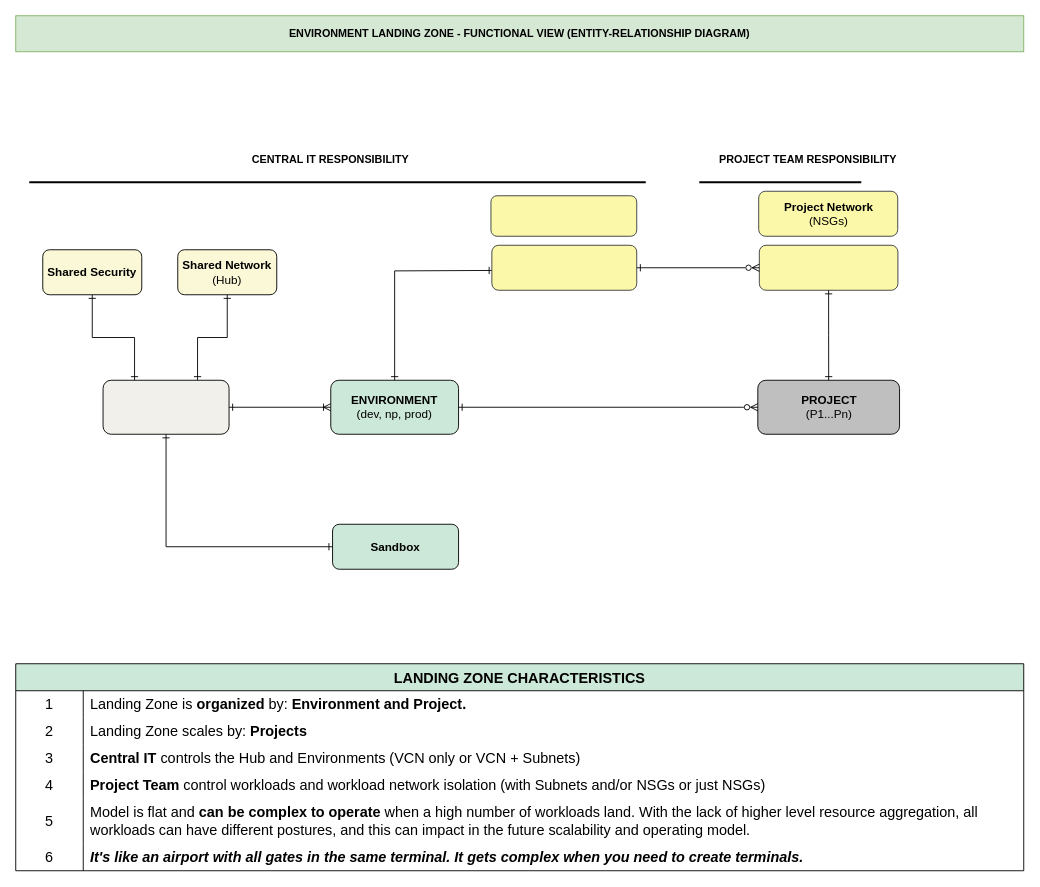
Some shapes in this 1040 by 887 pixel diagram are drawn without their labels. The centre of each missing label's shape, as x and y in pixels:
Environment Network (VCN): point (564, 267)
Environment Network (VCN, Subnets): point (563, 215)
Project Network (Subnets and/or NSGs): point (828, 267)
TENANCY: point (165, 406)
